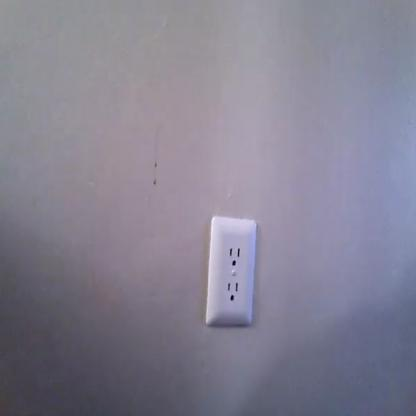OUTLET: (207, 216, 254, 324)
